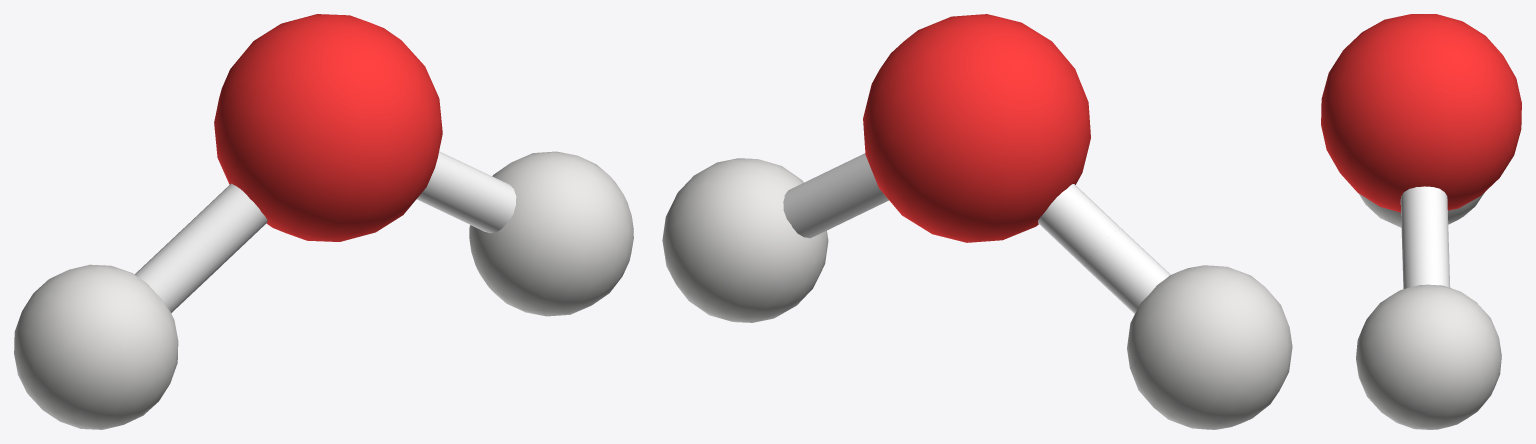
The model's file is shui.fbx.
The picture shows the model from 3 angles, left to right: view 1: azimuth 30°, elevation 25°; view 2: azimuth 150°, elevation 25°; view 3: azimuth 270°, elevation 25°; orthographic projection. The views are drawn at different scales.
Parts seen in each view (by area): view 1: _0*167, _0*169, _0*168, Line143, Line144, 对象005; view 2: _0*167, _0*169, _0*168, Line143, Line144, 对象005; view 3: _0*167, _0*168, Line143, _0*169.
Boxes of the visible parts, left/top/right/bottom form: _0*167: left=214, top=14, right=442, bottom=241; _0*169: left=14, top=264, right=178, bottom=429; _0*168: left=469, top=151, right=633, bottom=316; Line143: left=416, top=151, right=516, bottom=233; Line144: left=135, top=228, right=220, bottom=313; 对象005: left=184, top=183, right=267, bottom=266; _0*167: left=863, top=14, right=1090, bottom=242; _0*169: left=1127, top=265, right=1292, bottom=429; _0*168: left=662, top=158, right=828, bottom=322; Line143: left=783, top=153, right=888, bottom=238; Line144: left=1085, top=228, right=1170, bottom=313; 对象005: left=1038, top=184, right=1121, bottom=266; _0*167: left=1321, top=14, right=1521, bottom=212; _0*168: left=1356, top=284, right=1501, bottom=429; Line143: left=1400, top=186, right=1450, bottom=289; _0*169: left=1358, top=192, right=1484, bottom=227.
Size of the model in its own units: 39.02 by 21.24 by 12.75.
